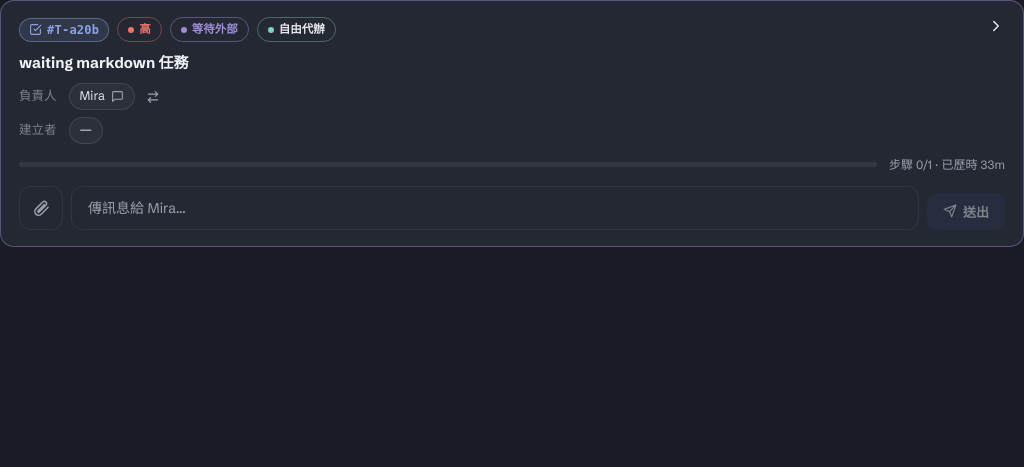
Test: step 等待外部 reason markdown render (T-a20b shapes, T-c514 surface) › renders a fenced code block as <pre> inside the .doc-md container
Click the button with test id "task-card" at x=512, y=232, box 0,0 -> 1023,247
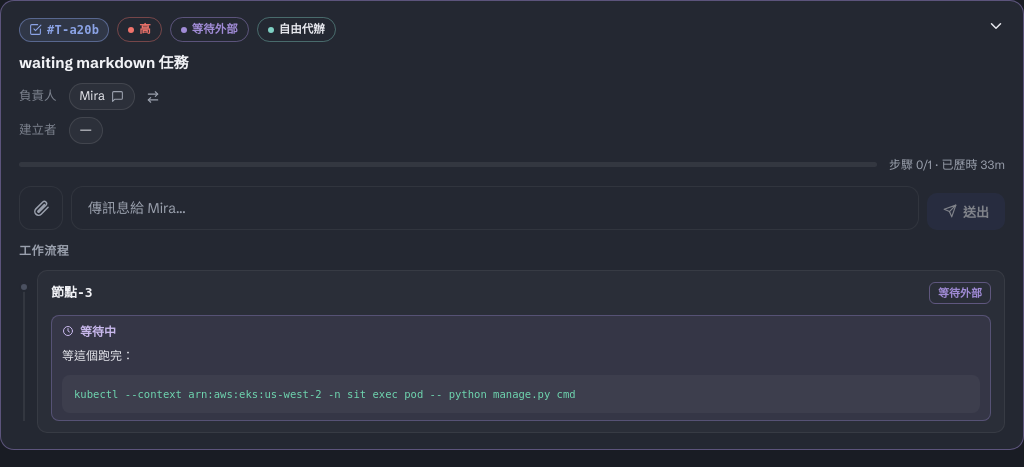
Check: the text "kubectl" is shown, box 74,388 -> 576,400
